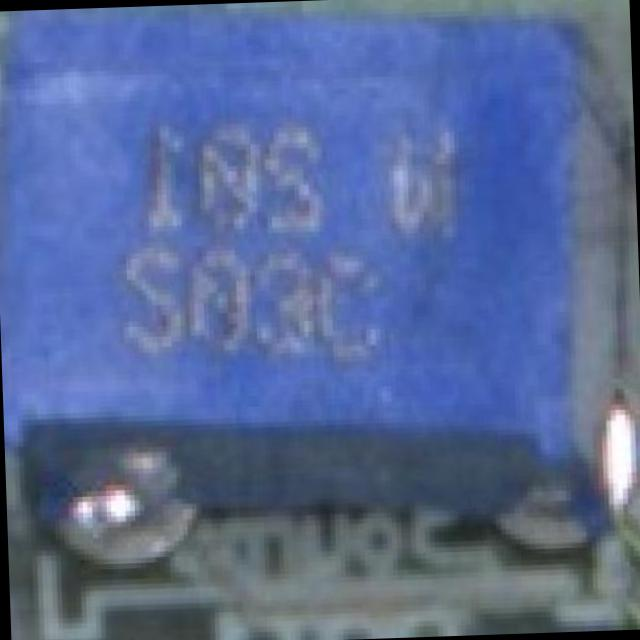potentiometer: (0, 2, 631, 640)
